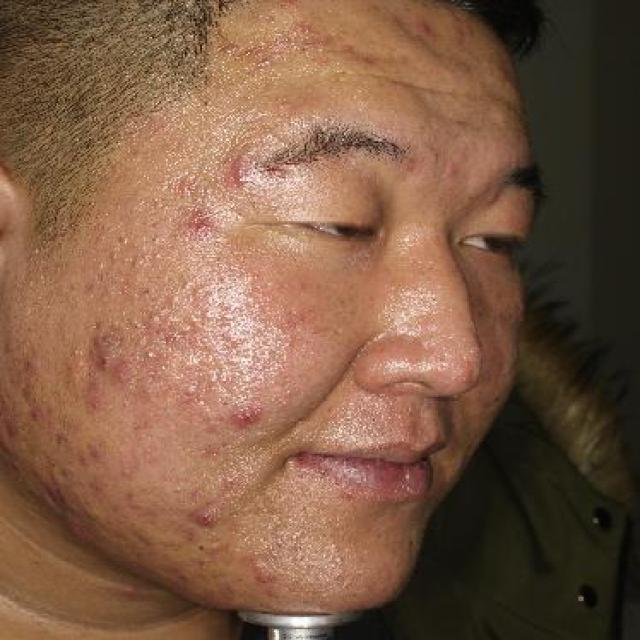Acne: (224, 402, 269, 429), (248, 560, 282, 592), (184, 217, 216, 237), (193, 502, 216, 526), (92, 351, 114, 372)
Whiteheads: (253, 48, 280, 70), (176, 382, 204, 402), (140, 305, 166, 326), (174, 274, 197, 294), (113, 229, 133, 249), (188, 284, 209, 303), (125, 254, 147, 272), (137, 348, 157, 362), (216, 372, 236, 386)
